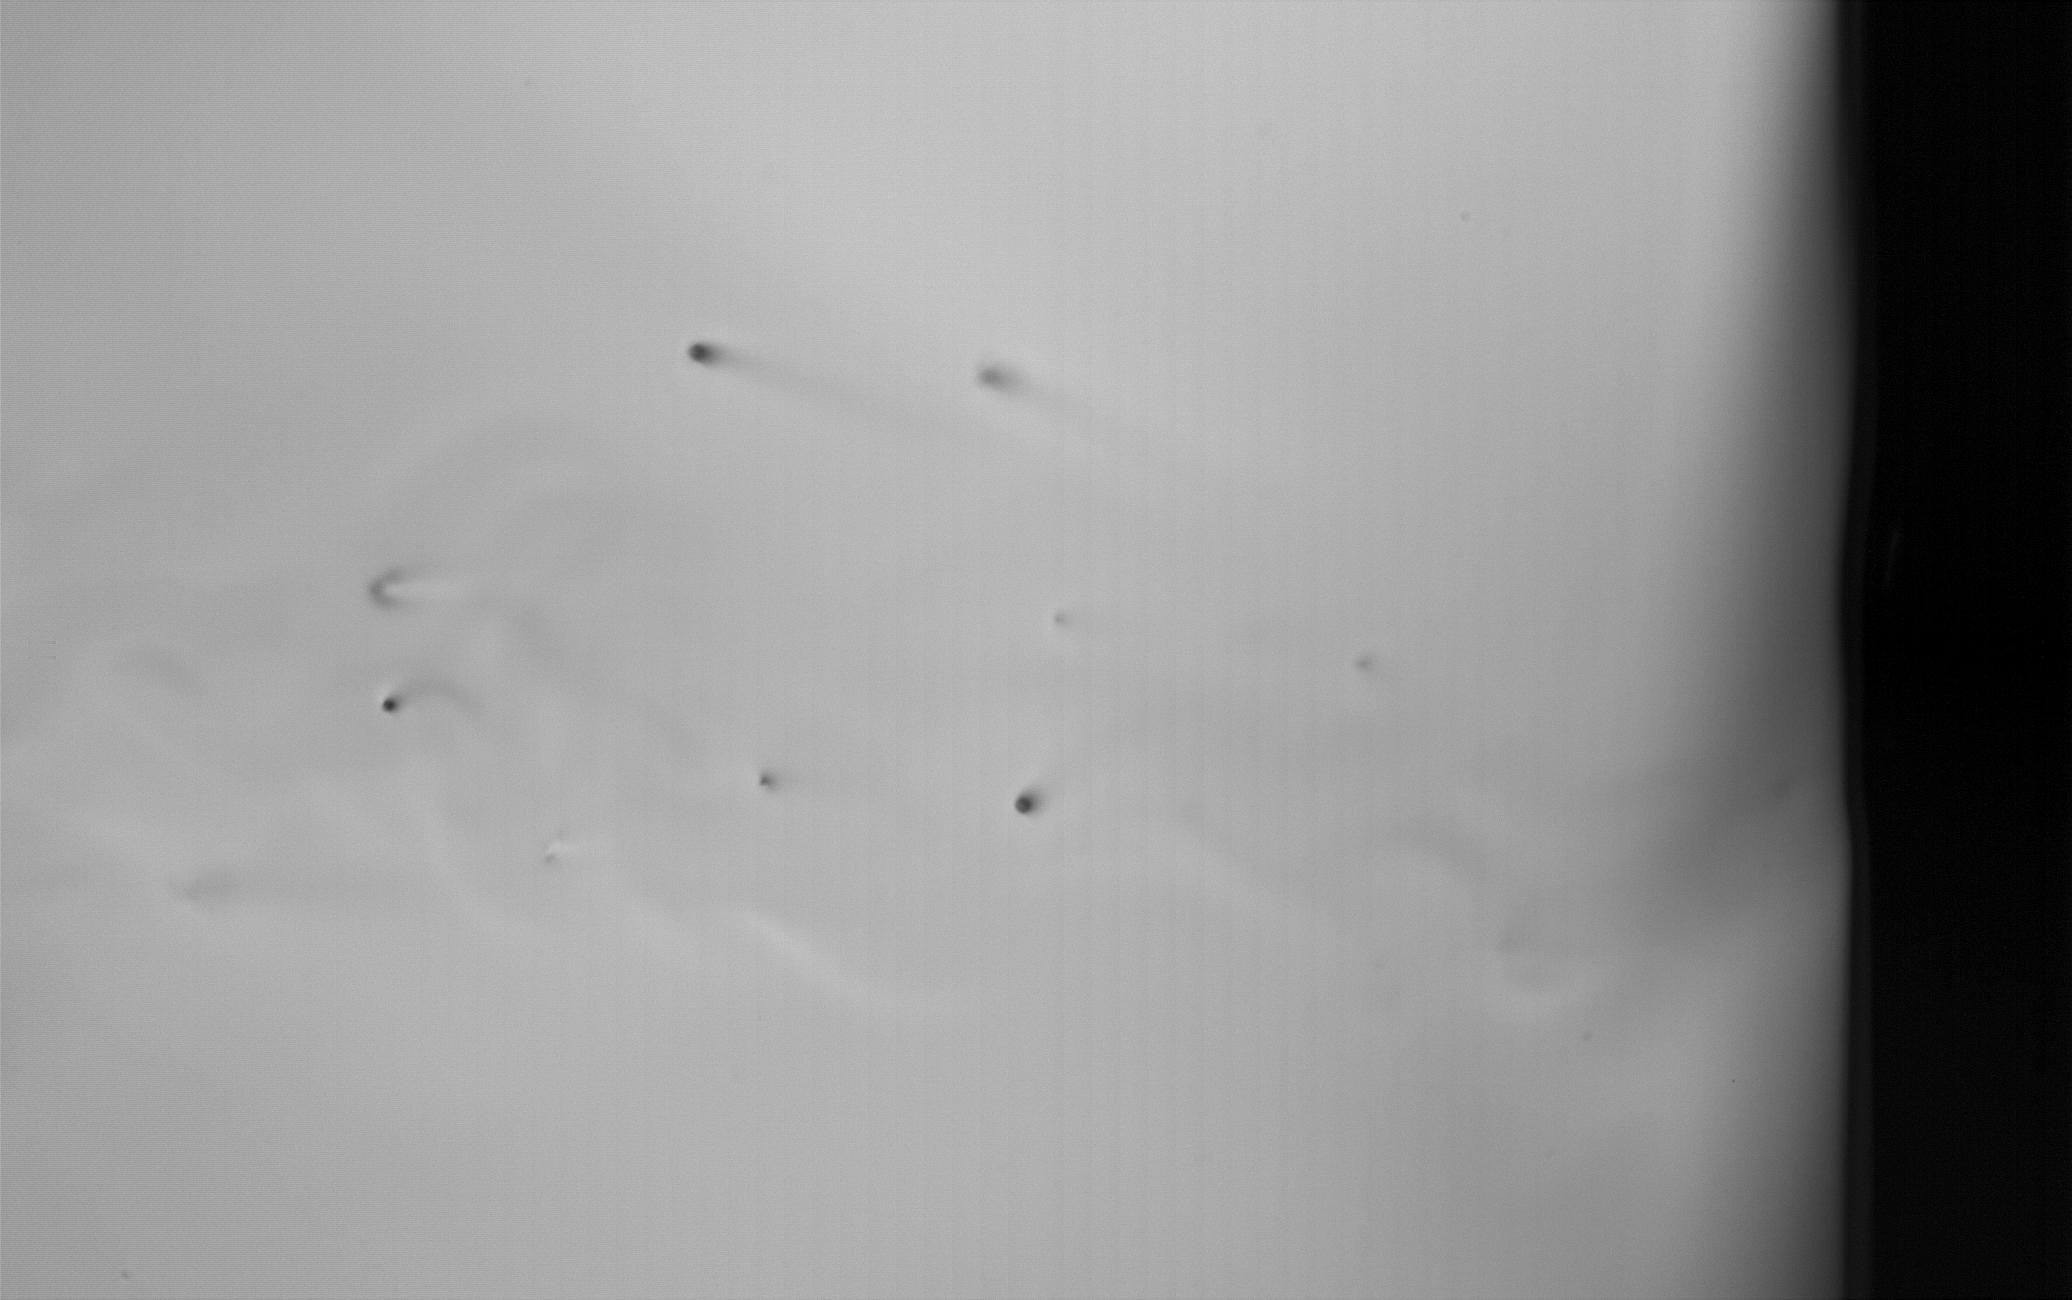Blurry: (1349, 649, 1377, 681), (975, 361, 1003, 394), (750, 765, 778, 798), (1046, 607, 1069, 634)
ClassicalEvaporation: (376, 689, 406, 720), (683, 340, 710, 368), (1011, 792, 1037, 821)
DiffusiveMixing: (368, 569, 400, 611)
